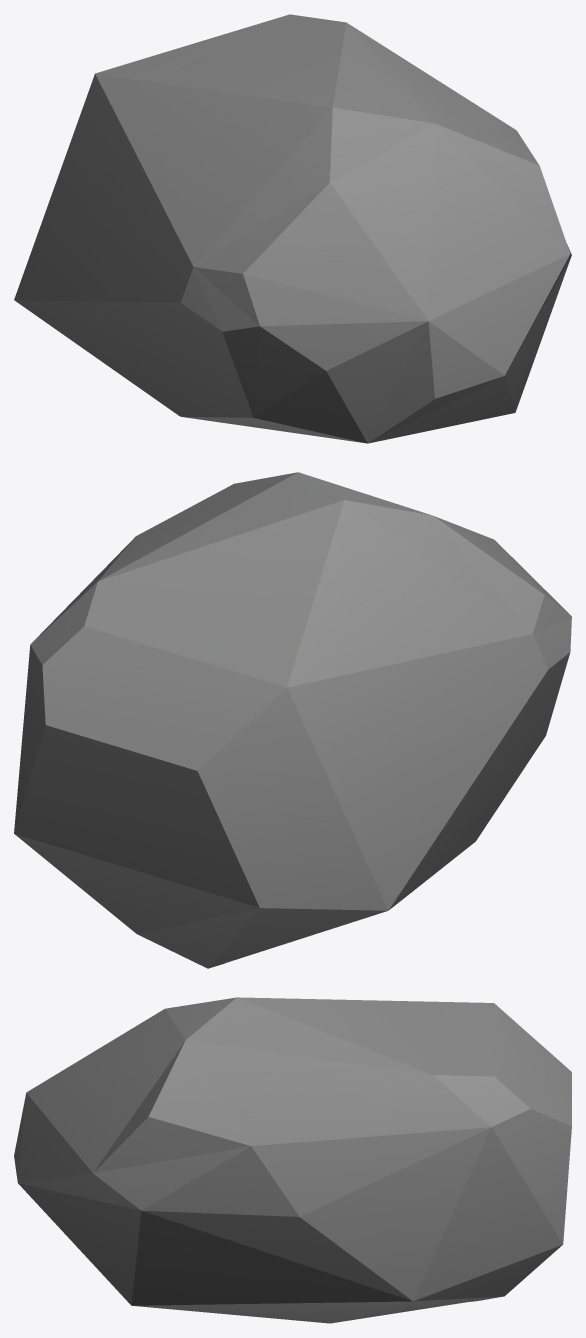
Rendered from pebble.glb.
3 views of the same model, one above another, from view 1: azimuth 30°, elevation 25°; view 2: azimuth 150°, elevation 25°; view 3: azimuth 270°, elevation 25° (orthographic). The views are drawn at different scales.
Visible parts, largest first — view 1: Icosphere.077; view 2: Icosphere.077; view 3: Icosphere.077.
Part boxes in pixels (x1,y1,x2,y2): Icosphere.077: (14,14,571,443); Icosphere.077: (14,472,571,968); Icosphere.077: (14,997,571,1323).
Size of the model in its own units: 0.1597 by 0.1384 by 0.2238.
Materials: 1 (1 with a texture image).
